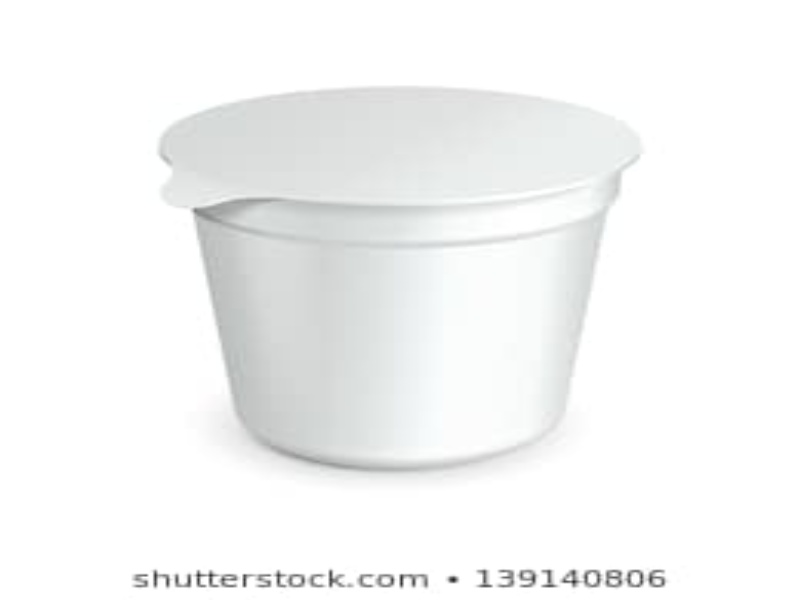yogurt-cup: (159, 83, 635, 471)
